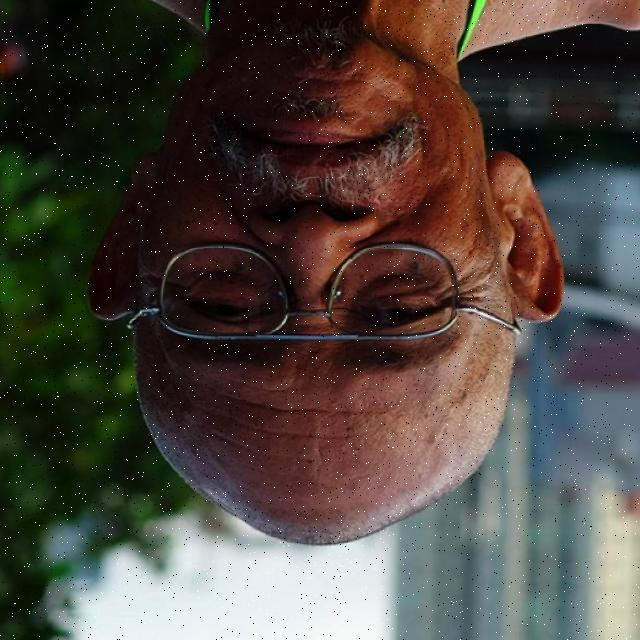puffy_eyes: (182, 274, 271, 299), (360, 272, 447, 295)
